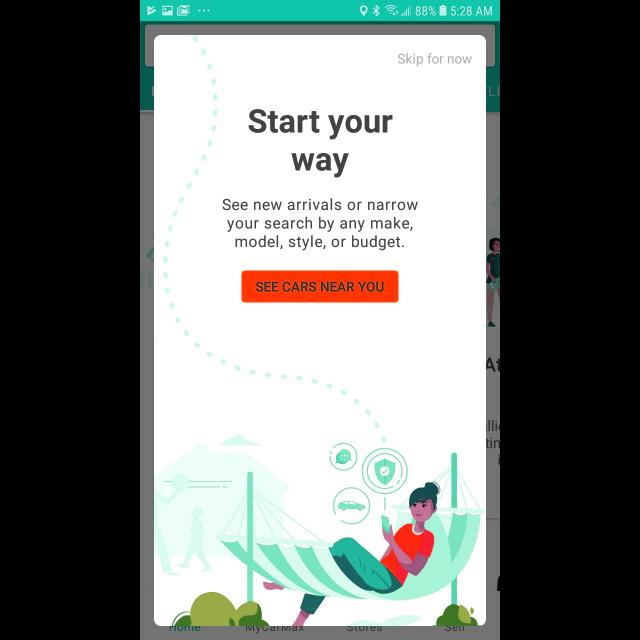backgroundimage: (154, 34, 486, 626)
text: (222, 198, 418, 250), (248, 110, 394, 178), (398, 53, 472, 67)
textbutton: (242, 271, 398, 303)
uppertaskbar: (140, 1, 500, 22)
